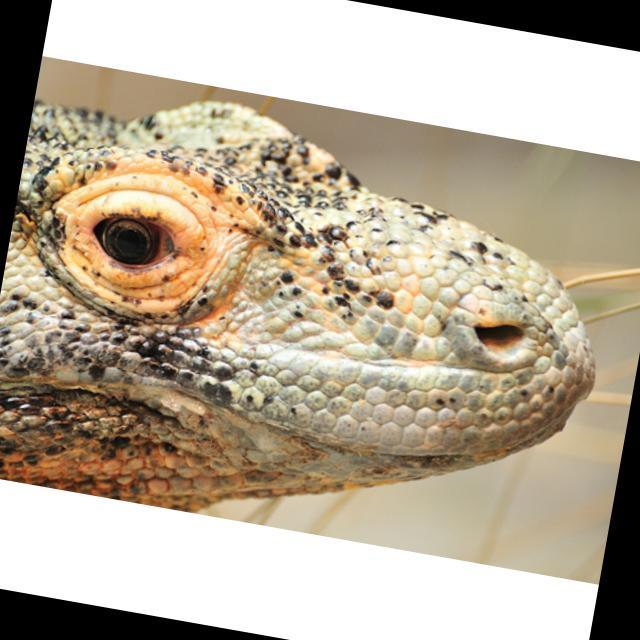KomodoDragon: (0, 65, 632, 576)
